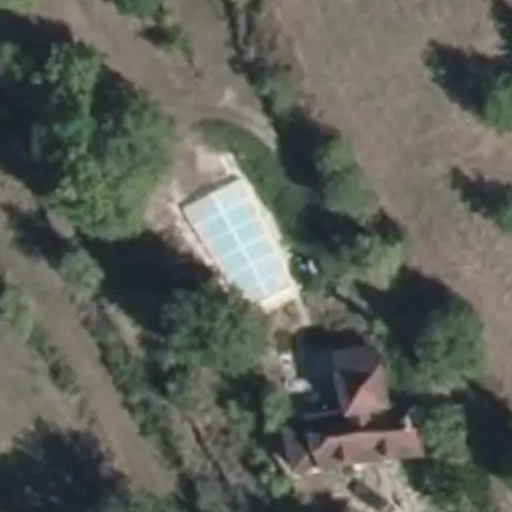pool: (214, 205, 302, 287)
